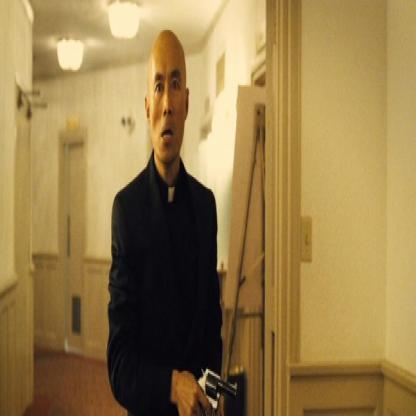Gun: (190, 364, 236, 414)
